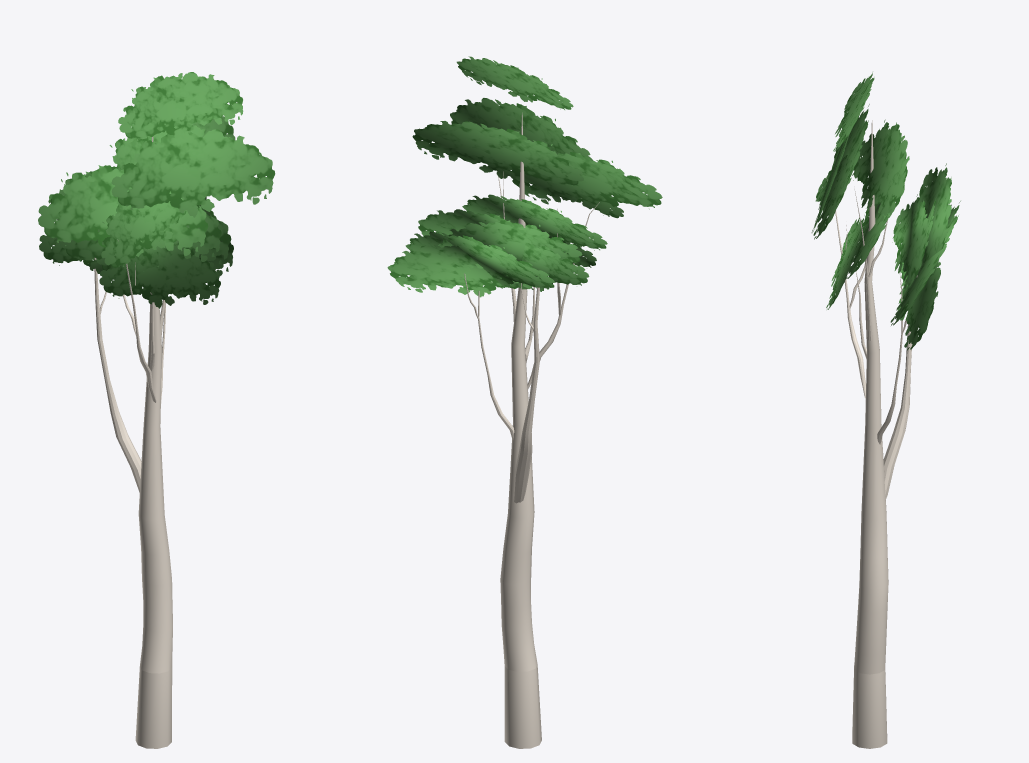
The model's file is tree_l_03.fbx.
3 renders of one model, left to right at view 1: azimuth 30°, elevation 25°; view 2: azimuth 150°, elevation 25°; view 3: azimuth 270°, elevation 25°, orthographic. The views are drawn at different scales.
Parts seen in each view (by area): view 1: tree03, LeafCard_008, LeafCard_001, LeafCard_004, LeafCard_012, LeafCard_003, LeafCard_005, LeafCard_002, LeafCard_010, LeafCard_007; view 2: tree03, LeafCard_002, LeafCard_004, LeafCard_006, LeafCard_008, LeafCard_005, LeafCard_007, LeafCard_011, LeafCard_001, LeafCard_010, LeafCard_009; view 3: tree03, LeafCard_002, LeafCard_009, LeafCard_011, LeafCard_006, LeafCard_007, LeafCard_004, LeafCard_005, LeafCard_012, LeafCard_001, LeafCard_003, LeafCard_008.
Part boxes in pixels (x1,y1,x2,y2): tree03: (94, 136, 172, 748); LeafCard_008: (111, 129, 275, 217); LeafCard_001: (118, 72, 243, 141); LeafCard_004: (38, 165, 208, 256); LeafCard_012: (99, 244, 220, 308); LeafCard_003: (101, 191, 201, 267); LeafCard_005: (59, 205, 221, 271); LeafCard_002: (109, 116, 235, 170); LeafCard_010: (39, 235, 102, 273); LeafCard_007: (190, 210, 230, 267); tree03: (464, 113, 599, 748); LeafCard_002: (412, 121, 583, 186); LeafCard_004: (511, 152, 662, 213); LeafCard_006: (387, 245, 535, 297); LeafCard_008: (450, 98, 592, 160); LeafCard_005: (462, 194, 607, 250); LeafCard_007: (405, 231, 554, 290); LeafCard_011: (438, 220, 582, 271); LeafCard_001: (456, 56, 573, 109); LeafCard_010: (490, 241, 589, 291); LeafCard_009: (418, 209, 526, 236); tree03: (826, 120, 917, 748); LeafCard_002: (852, 119, 909, 221); LeafCard_009: (892, 194, 928, 288); LeafCard_011: (918, 163, 951, 276); LeafCard_006: (897, 256, 940, 350); LeafCard_007: (890, 201, 960, 325); LeafCard_004: (813, 104, 869, 239); LeafCard_005: (844, 195, 894, 279); LeafCard_012: (826, 215, 864, 309); LeafCard_001: (833, 72, 874, 151); LeafCard_003: (815, 155, 851, 214); LeafCard_008: (811, 134, 849, 232).
Bounding box in the file's own units: 592 × 1251 × 405.
